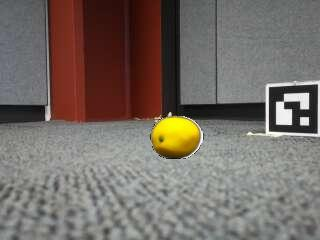lemon: (152, 117, 200, 158)
